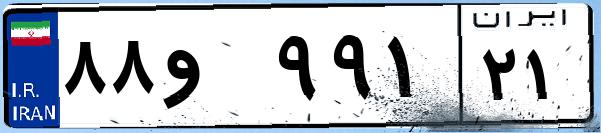1: (385, 28, 445, 110), (525, 38, 570, 115)
2: (475, 38, 525, 113)
8: (57, 26, 110, 100), (110, 28, 158, 98)
9: (270, 28, 330, 110), (330, 28, 385, 110)
و: (158, 20, 270, 120)
